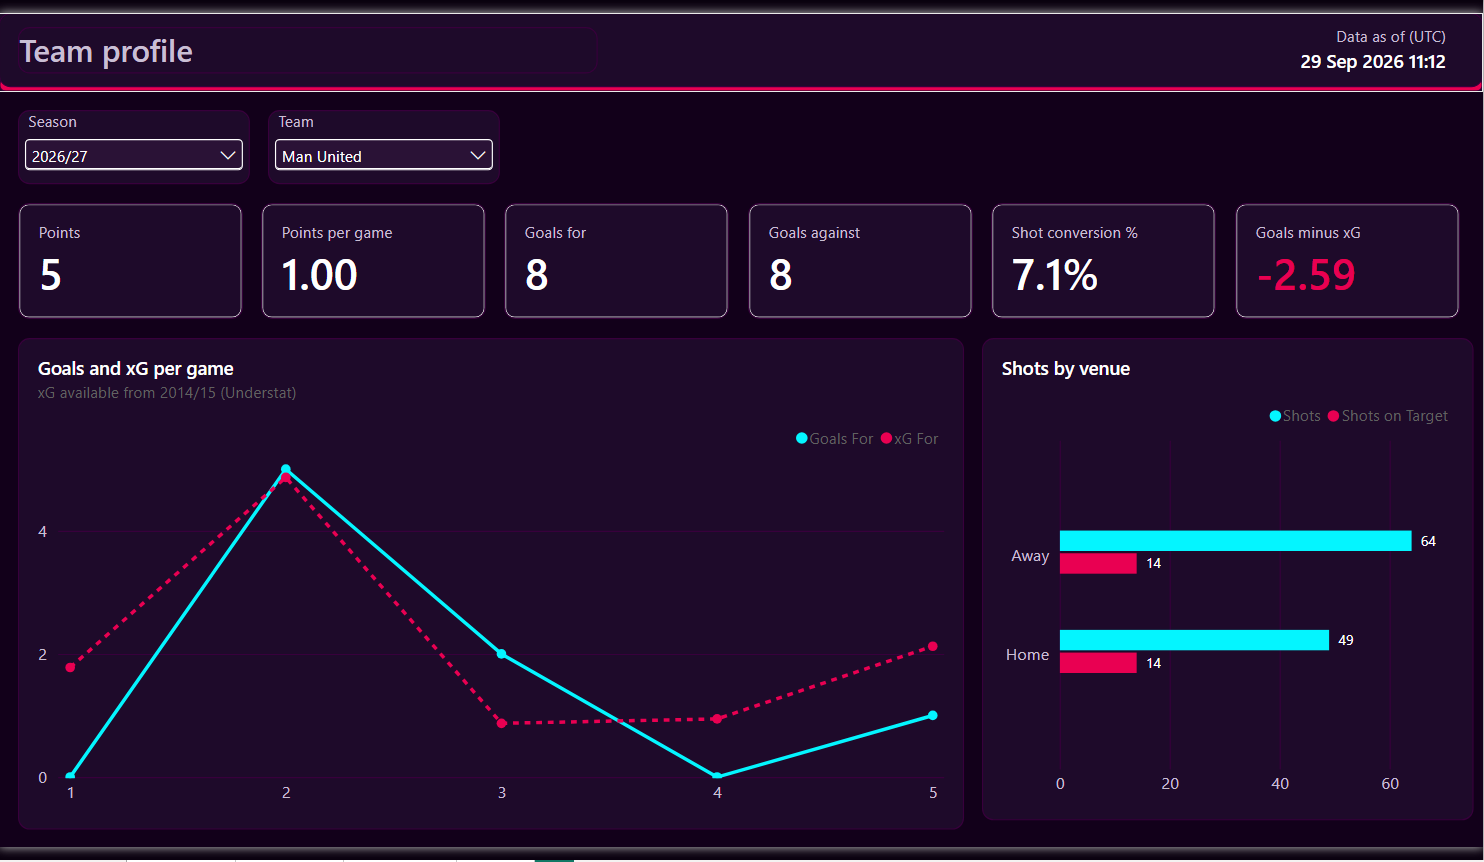

What the dashboard file says about the page in this screenshot:
{"tool":"powerbi","page":{"name":"Team Profile","canvas":[1280,720],"ordinal":1},"visuals":[{"type":"group","id":"g1","title":"Top bar","box":[0,0,1280,68],"z":0},{"type":"shape","title":"Accent line","box":[0,56,1280,12],"z":0,"group":"g1"},{"type":"shape","title":"Bar","box":[0,0,1280,64],"z":1000,"group":"g1"},{"type":"slicer","fields":{"Values":["dim_season.season"]},"box":[16,84,200,64],"z":1000},{"type":"textbox","title":"Page title","box":[16,12,500,40],"z":2000,"group":"g1"},{"type":"slicer","fields":{"Values":["dim_team.team"]},"box":[232,84,200,64],"z":2000},{"type":"cardVisual","title":"Last refreshed","fields":{"Data":["_Measures.Last Refreshed"]},"box":[1004,4,260,56],"z":3000,"group":"g1"},{"type":"cardVisual","fields":{"Data":["_Measures.Points"]},"box":[16,164,194,100],"z":3000},{"type":"cardVisual","fields":{"Data":["_Measures.Points per Game"]},"box":[226,164,194,100],"z":4000},{"type":"cardVisual","fields":{"Data":["_Measures.Shot Conversion %"]},"box":[856,164,194,100],"z":5000},{"type":"cardVisual","fields":{"Data":["_Measures.Goals Against"]},"box":[646,164,194,100],"z":6000},{"type":"cardVisual","fields":{"Data":["_Measures.Goals For"]},"box":[436,164,194,100],"z":7000},{"type":"cardVisual","fields":{"Data":["_Measures.Goals minus xG"]},"box":[1066,164,194,100],"z":8000},{"type":"lineChart","title":"Goals and xG per game","fields":{"Category":["fact_team_match.game_no"],"Y":["_Measures.Goals For","_Measures.xG For"]},"box":[16,280,816,424],"z":9000},{"type":"clusteredBarChart","title":"Shots by venue","fields":{"Category":["fact_team_match.venue"],"Y":["_Measures.Shots","_Measures.Shots on Target"]},"box":[848,280,424,416],"z":10000}]}

Visuals, with their boxes on the page's 1280x720 design canvas (x1, y1, x2, y2). These are canvas units, not pixel positions in the 1484x862 screenshot, which may show the page scaled, cropped or inside an application window:
"Top bar" group: <bbox>0, 0, 1280, 68</bbox>
"Accent line" shape: <bbox>0, 56, 1280, 68</bbox>
"Bar" shape: <bbox>0, 0, 1280, 64</bbox>
slicer - dim_season.season: <bbox>16, 84, 216, 148</bbox>
"Page title" textbox: <bbox>16, 12, 516, 52</bbox>
slicer - dim_team.team: <bbox>232, 84, 432, 148</bbox>
"Last refreshed" cardVisual: <bbox>1004, 4, 1264, 60</bbox>
cardVisual - _Measures.Points: <bbox>16, 164, 210, 264</bbox>
cardVisual - _Measures.Points per Game: <bbox>226, 164, 420, 264</bbox>
cardVisual - _Measures.Shot Conversion %: <bbox>856, 164, 1050, 264</bbox>
cardVisual - _Measures.Goals Against: <bbox>646, 164, 840, 264</bbox>
cardVisual - _Measures.Goals For: <bbox>436, 164, 630, 264</bbox>
cardVisual - _Measures.Goals minus xG: <bbox>1066, 164, 1260, 264</bbox>
"Goals and xG per game" lineChart: <bbox>16, 280, 832, 704</bbox>
"Shots by venue" clusteredBarChart: <bbox>848, 280, 1272, 696</bbox>
